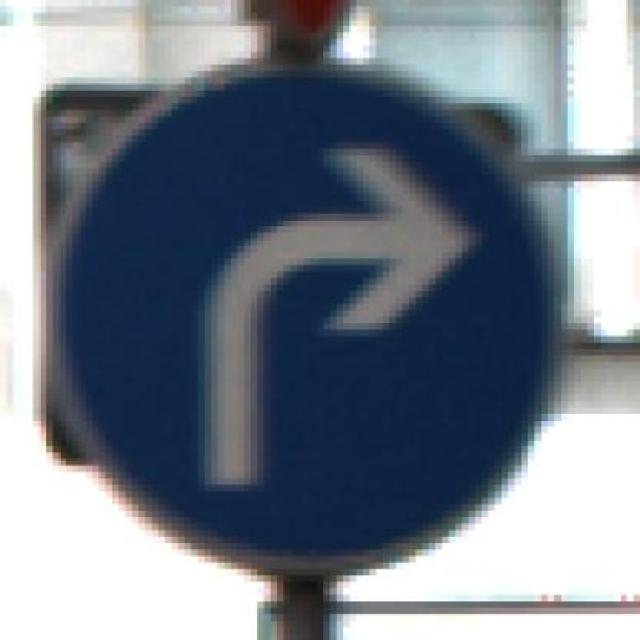Turn right ahead: (26, 58, 600, 594)
